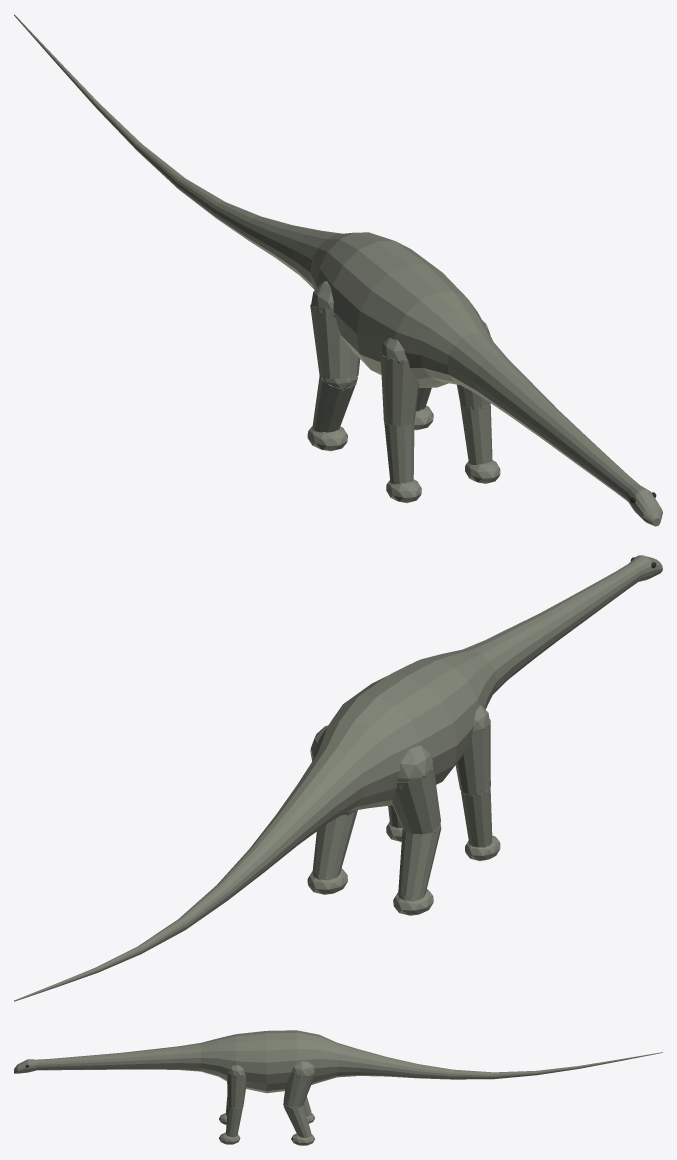
3 renders of one model, top to bottom at view 1: azimuth 30°, elevation 25°; view 2: azimuth 150°, elevation 25°; view 3: azimuth 270°, elevation 25°, orthographic. The views are drawn at different scales.
Parts seen in each view (by area): view 1: Diplodocus continuous head neck trunk whip; view 2: Diplodocus continuous head neck trunk whip; view 3: Diplodocus continuous head neck trunk whip.
Boxes of the visible parts, left/top/right/bottom form: Diplodocus continuous head neck trunk whip: left=14, top=14, right=662, bottom=526; Diplodocus continuous head neck trunk whip: left=14, top=555, right=662, bottom=1001; Diplodocus continuous head neck trunk whip: left=14, top=1030, right=662, bottom=1145.
Size of the model in its own units: 2.74 by 4.43 by 25.7.
